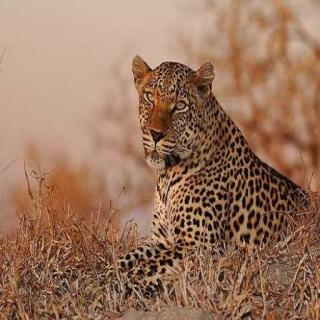Leopard: (124, 44, 269, 265)
